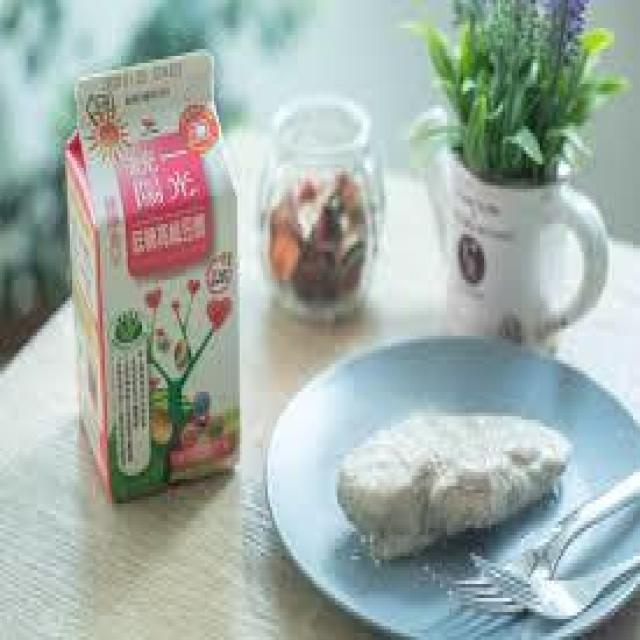TongYi_LowSugarHighFiberSoyMilk: (58, 46, 247, 494)
